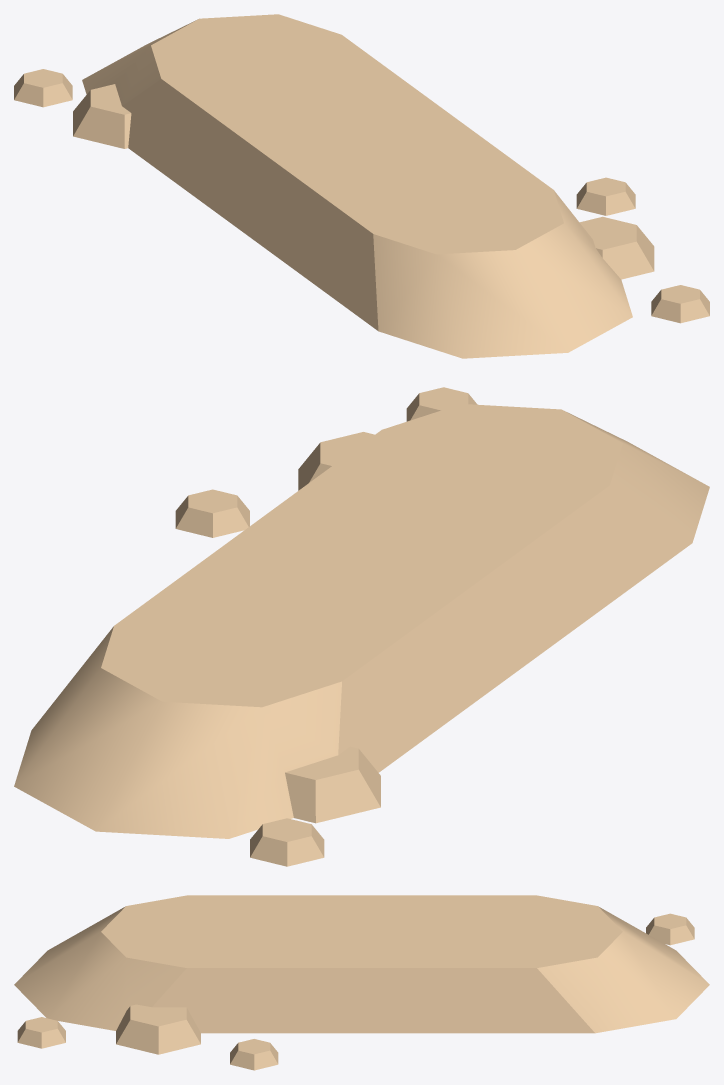
Rendered from grave.glb.
3 views of the same model, one above another, from view 1: azimuth 30°, elevation 25°; view 2: azimuth 150°, elevation 25°; view 3: azimuth 270°, elevation 25° (orthographic). The views are drawn at different scales.
Parts seen in each view (by area): view 1: grave(Clone); view 2: grave(Clone); view 3: grave(Clone).
Boxes of the visible parts, <box> form: grave(Clone): <box>14,14,709,358</box>; grave(Clone): <box>14,387,709,866</box>; grave(Clone): <box>14,895,709,1070</box>.
Size of the model in its own units: 0.5731 by 0.0952 by 1.13.
